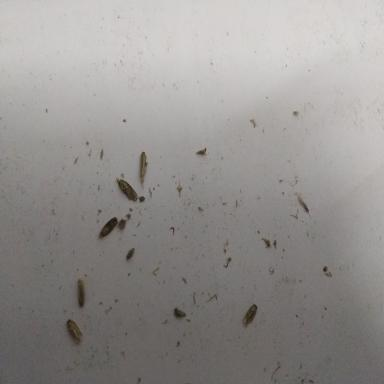pbw: (116, 178, 138, 201), (240, 303, 258, 328), (66, 319, 82, 344), (100, 217, 118, 237), (140, 151, 148, 190), (77, 278, 85, 307)
